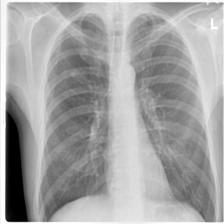tuberculosis: (37, 11, 220, 223)
